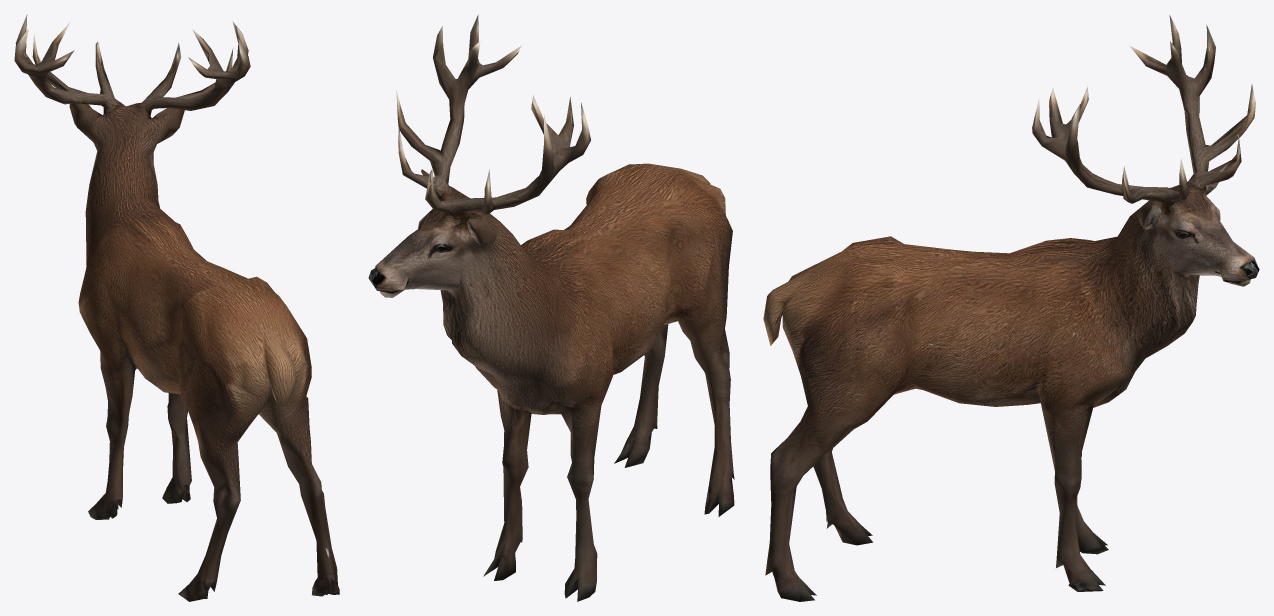
Rendered from animal_deer.glb.
The picture shows the model from 3 angles, left to right: view 1: azimuth 30°, elevation 25°; view 2: azimuth 150°, elevation 25°; view 3: azimuth 270°, elevation 25°; orthographic projection. The views are drawn at different scales.
Visible parts, largest first — view 1: tripo_node_9265c08a-47a9-4203-81de-1c3d468c8b75; view 2: tripo_node_9265c08a-47a9-4203-81de-1c3d468c8b75; view 3: tripo_node_9265c08a-47a9-4203-81de-1c3d468c8b75.
Boxes of the visible parts, x1,y1,x2,y2 form: tripo_node_9265c08a-47a9-4203-81de-1c3d468c8b75: (14,14,339,601); tripo_node_9265c08a-47a9-4203-81de-1c3d468c8b75: (368,14,734,601); tripo_node_9265c08a-47a9-4203-81de-1c3d468c8b75: (763,15,1259,601).
Bounding box in the file's own units: 0.423 × 0.9801 × 0.8538.
1 material, 1 textured.
